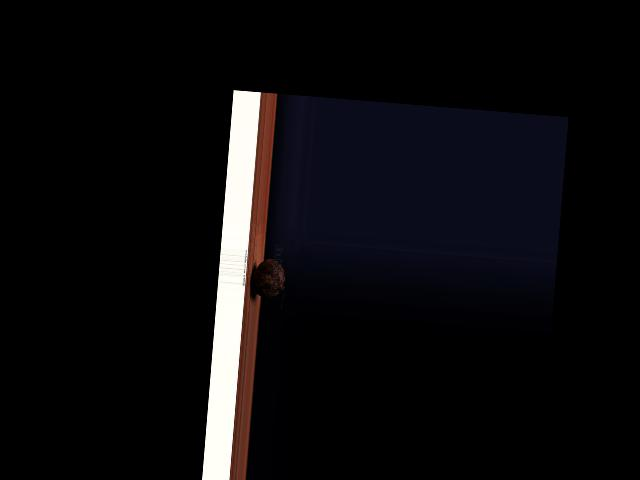beet: (249, 257, 287, 311)
